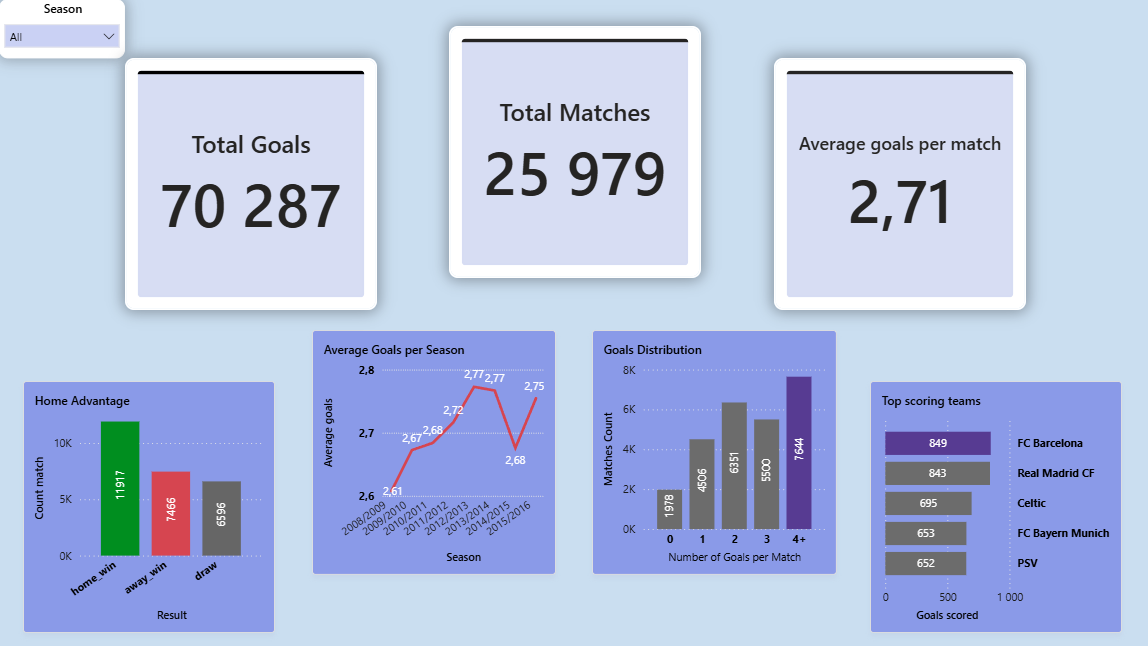

What the dashboard file says about the page in this screenshot:
{"tool":"powerbi","page":{"name":"Page 1","canvas":[1280,720],"ordinal":0},"visuals":[{"type":"cardVisual","fields":{"Data":["CountNonNull(public dataset_matches.match_id)"]},"box":[500,30,280,280],"z":0},{"type":"clusteredColumnChart","title":"Home Advantage","fields":{"Category":["public dataset_matches.result"],"Y":["CountNonNull(public dataset_matches.match_id)"]},"box":[26.7,424.4,280,280],"z":1000},{"type":"lineChart","title":"Average Goals per Season","fields":{"Category":["public dataset_matches.season"],"Y":["Avg(public dataset_matches.total_goals)"]},"box":[347.8,367.8,271.1,272.2],"z":2000},{"type":"barChart","title":"Top scoring teams","fields":{"Category":["public dataset_teams.team_name"],"Y":["Sum(public dataset_teams.goals_scored)"]},"box":[968,424,280,280],"z":3000},{"type":"cardVisual","fields":{"Data":["Avg(public dataset_matches.total_goals)"]},"box":[861.1,65.6,280,280],"z":4000},{"type":"clusteredColumnChart","title":"Goals Distribution","fields":{"Category":["public dataset_matches.goal_category"],"Y":["CountNonNull(public dataset_matches.match_id)"]},"box":[658.9,367.8,272.2,272.2],"z":6000},{"type":"slicer","title":"Season","fields":{"Values":["public dataset_matches.season"]},"box":[0,0,140,65.6],"z":7000},{"type":"cardVisual","fields":{"Data":["Sum(public dataset_matches.total_goals)"]},"box":[140,65.6,280,280],"z":7001}]}

Visuals, with their boxes in screenshot pixels (x1, y1, x2, y2), scaled from the page's 1280x720 canvas onto the 1148x646 screenshot:
cardVisual - CountNonNull(public dataset_matches.match_id): Rect(448, 27, 700, 278)
"Home Advantage" clusteredColumnChart: Rect(24, 381, 275, 632)
"Average Goals per Season" lineChart: Rect(312, 330, 555, 574)
"Top scoring teams" barChart: Rect(868, 380, 1119, 632)
cardVisual - Avg(public dataset_matches.total_goals): Rect(772, 59, 1023, 310)
"Goals Distribution" clusteredColumnChart: Rect(591, 330, 835, 574)
"Season" slicer: Rect(0, 0, 126, 59)
cardVisual - Sum(public dataset_matches.total_goals): Rect(126, 59, 377, 310)
